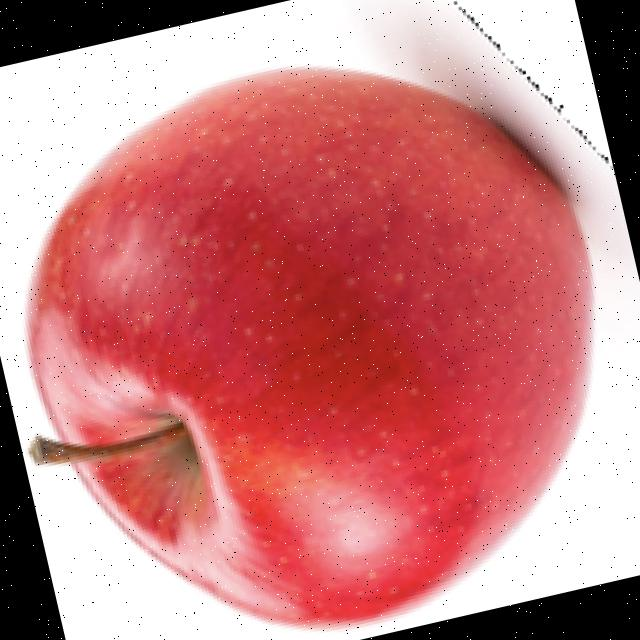apple: (18, 0, 621, 636)
